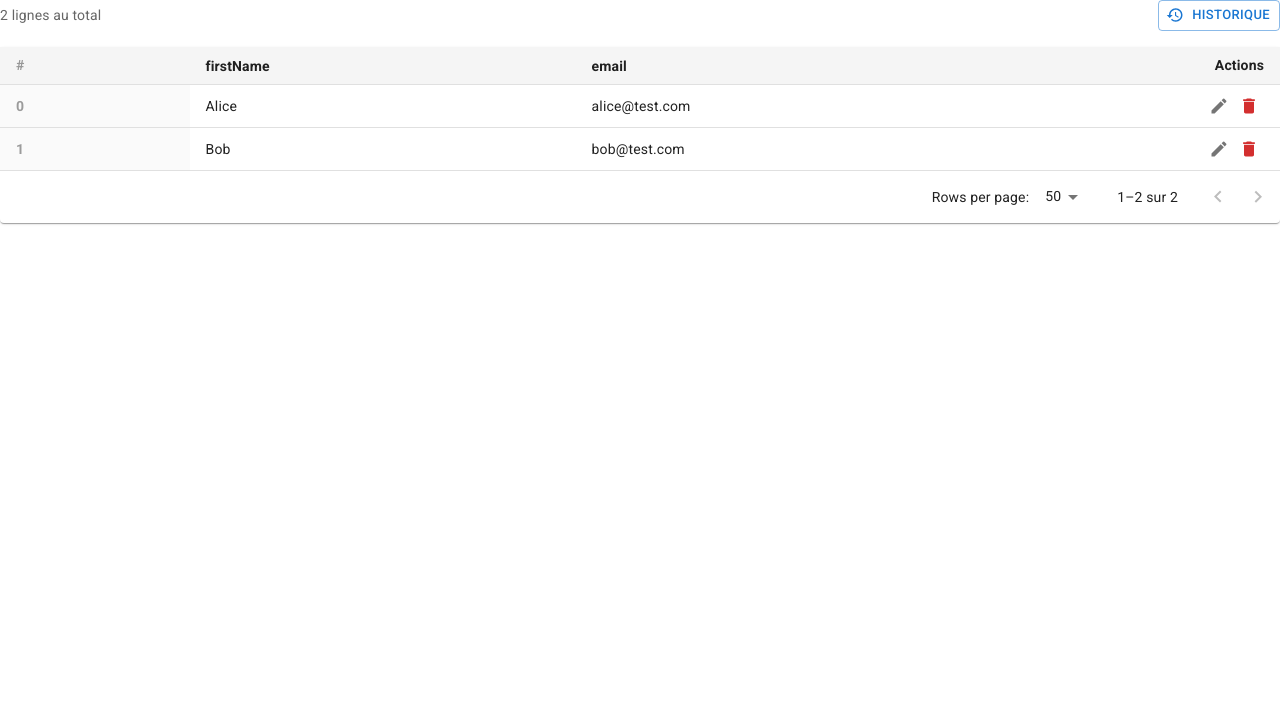
Test: DataEditorTab › ouvre le DeleteRowDialog au clic sur Supprimer
Click the button named "Supprimer" in the row of "alice@test.com": (1249, 106) [1234,91,1264,121]
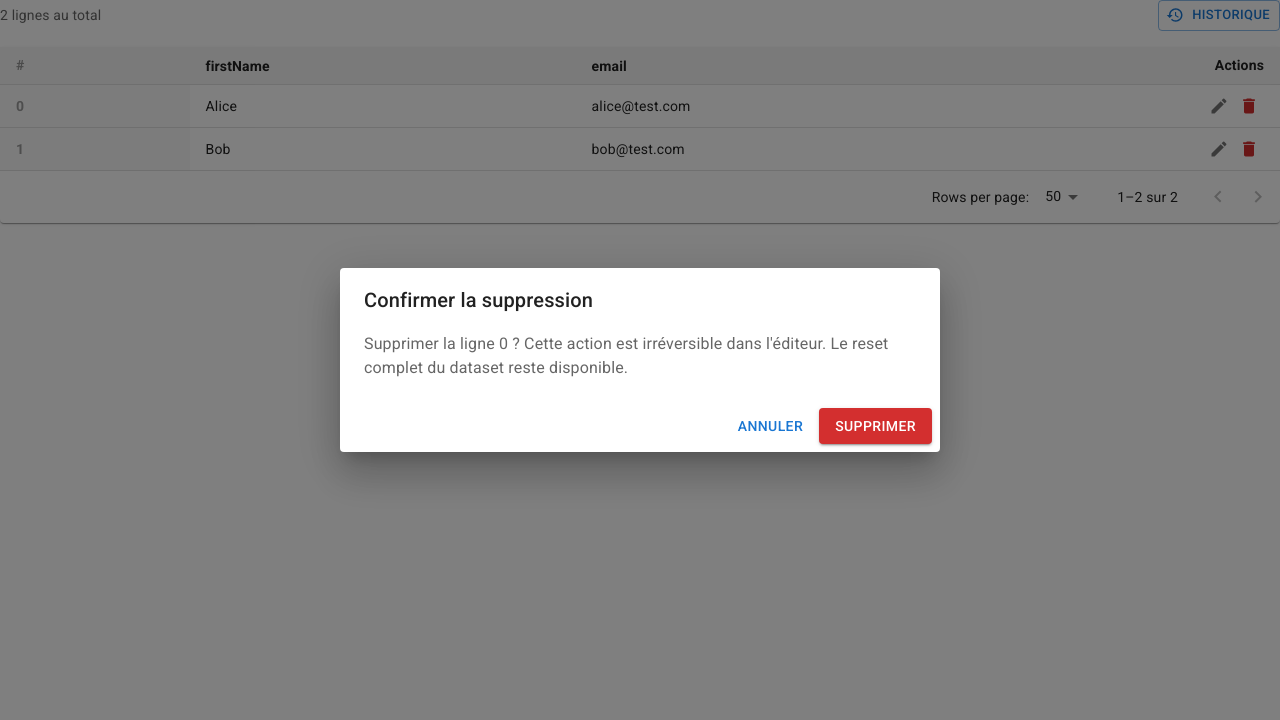
Check: the text "Supprimer la ligne" is shown, box [364,334,499,353]
